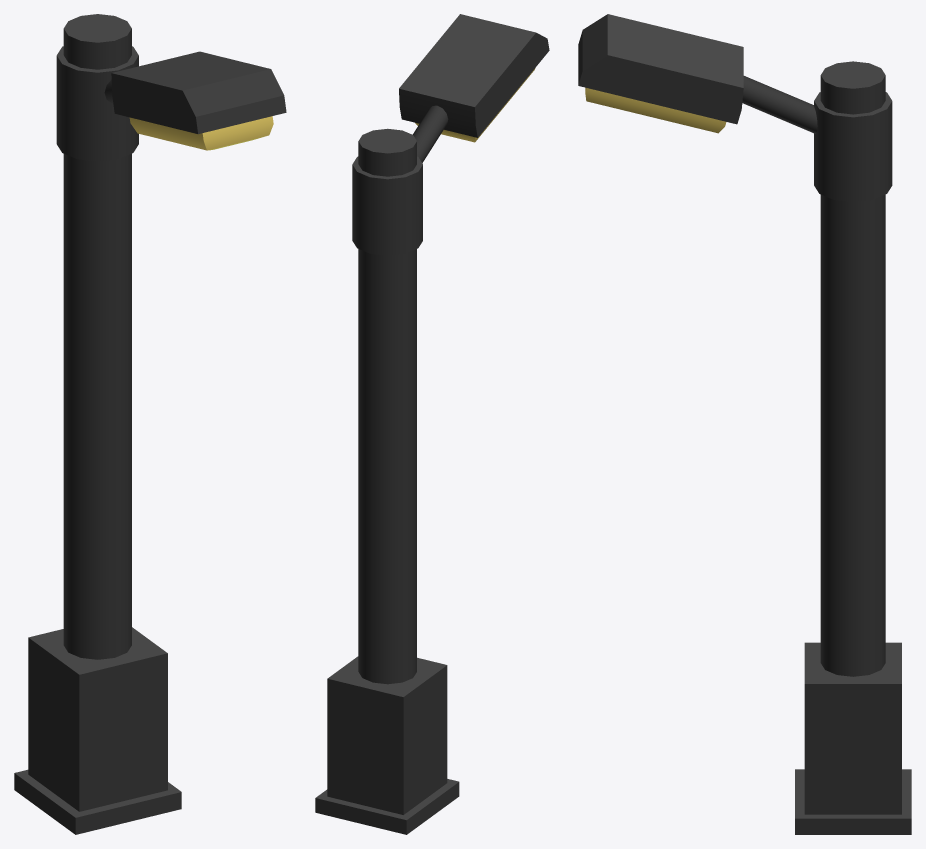
The model's file is street_lamp.fbx.
3 renders of one model, left to right at view 1: azimuth 30°, elevation 25°; view 2: azimuth 150°, elevation 25°; view 3: azimuth 270°, elevation 25°, orthographic. The views are drawn at different scales.
Parts seen in each view (by area): view 1: street_lamp; view 2: street_lamp; view 3: street_lamp.
Part boxes in pixels (x1,y1,x2,y2): street_lamp: (14,14,286,834); street_lamp: (315,14,549,834); street_lamp: (578,14,911,834).
Bounding box in the file's own units: 36 × 264 × 103.
